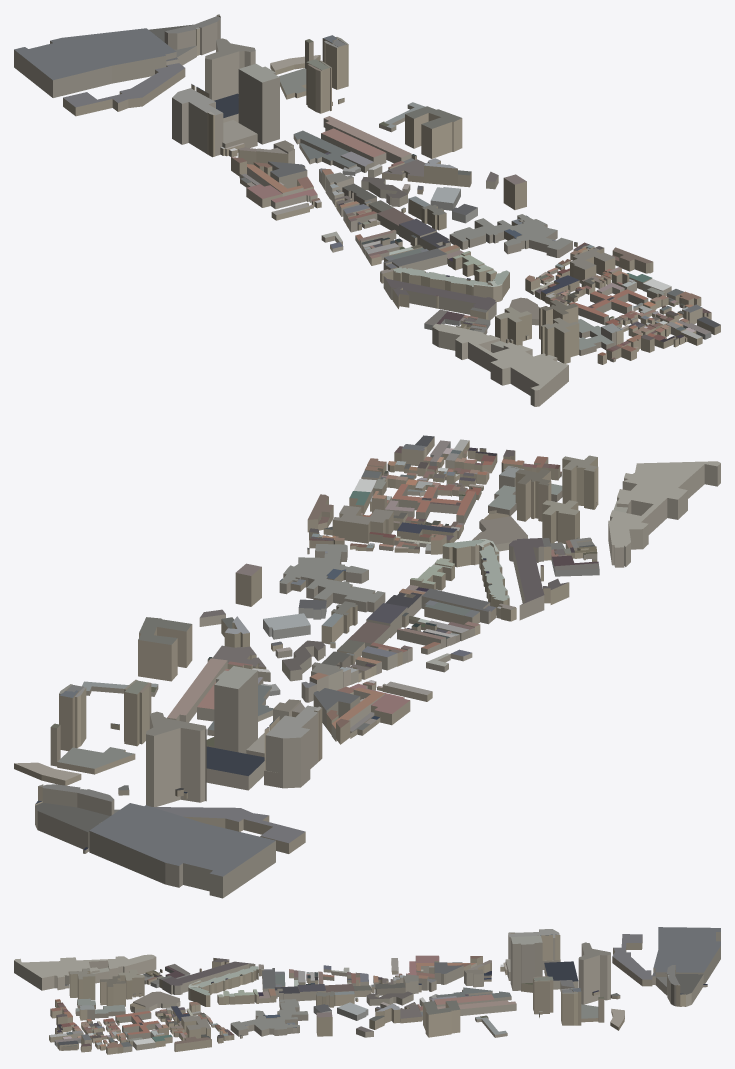
3 views of the same model, one above another, from view 1: azimuth 30°, elevation 25°; view 2: azimuth 150°, elevation 25°; view 3: azimuth 270°, elevation 25° (orthographic). The views are drawn at different scales.
Parts seen in each view (by area): view 1: tuile; view 2: tuile; view 3: tuile.
Boxes of the visible parts, x1,y1,x2,y2 form: tuile: [14, 14, 720, 406]; tuile: [14, 435, 720, 898]; tuile: [14, 927, 720, 1054].
Size of the model in its own units: 381 by 94.98 by 1076.
